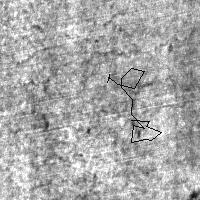crazing: (77, 9, 152, 138), (107, 68, 161, 142)
